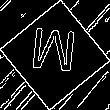M_S: (29, 27, 81, 83)
